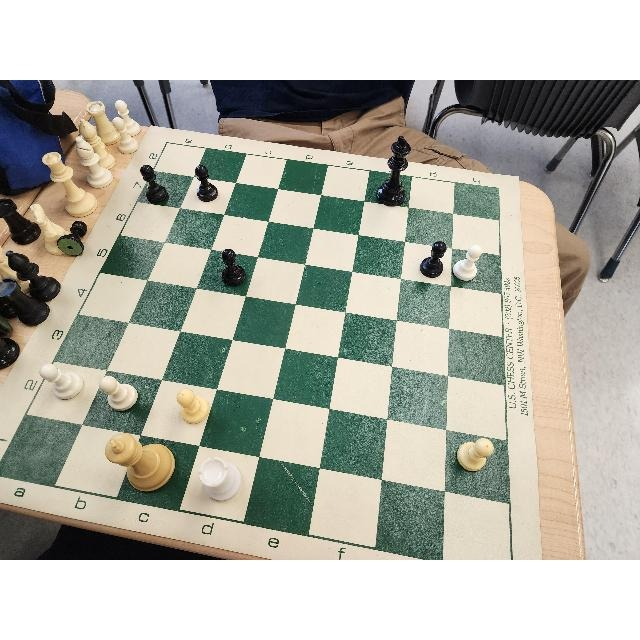black-bishop: (5, 250, 61, 300)
black-king: (376, 136, 410, 206)
black-pawn: (140, 163, 170, 202), (57, 221, 87, 257), (220, 248, 246, 286), (419, 241, 446, 277), (194, 165, 217, 201)
black-rook: (0, 279, 49, 325), (0, 198, 40, 246)
white-bishop: (79, 117, 117, 169), (75, 136, 112, 188)
white-king: (106, 431, 175, 491)
white-knight: (29, 203, 75, 255)
white-pawn: (199, 459, 241, 501), (41, 362, 82, 401), (100, 374, 137, 410), (176, 387, 208, 423), (458, 437, 492, 470), (112, 116, 141, 153), (115, 99, 141, 136), (455, 246, 481, 282)
white-queen: (40, 153, 97, 217)
white-rook: (87, 102, 120, 144)
